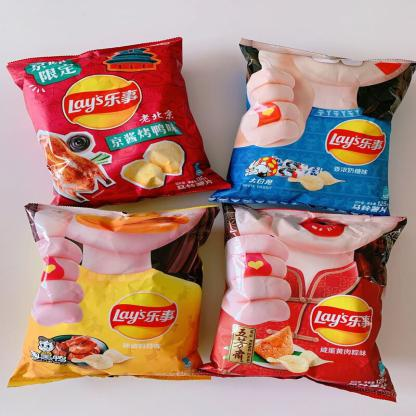potatochip: (186, 200, 416, 412), (0, 198, 228, 396), (0, 30, 238, 216), (202, 30, 415, 221)
